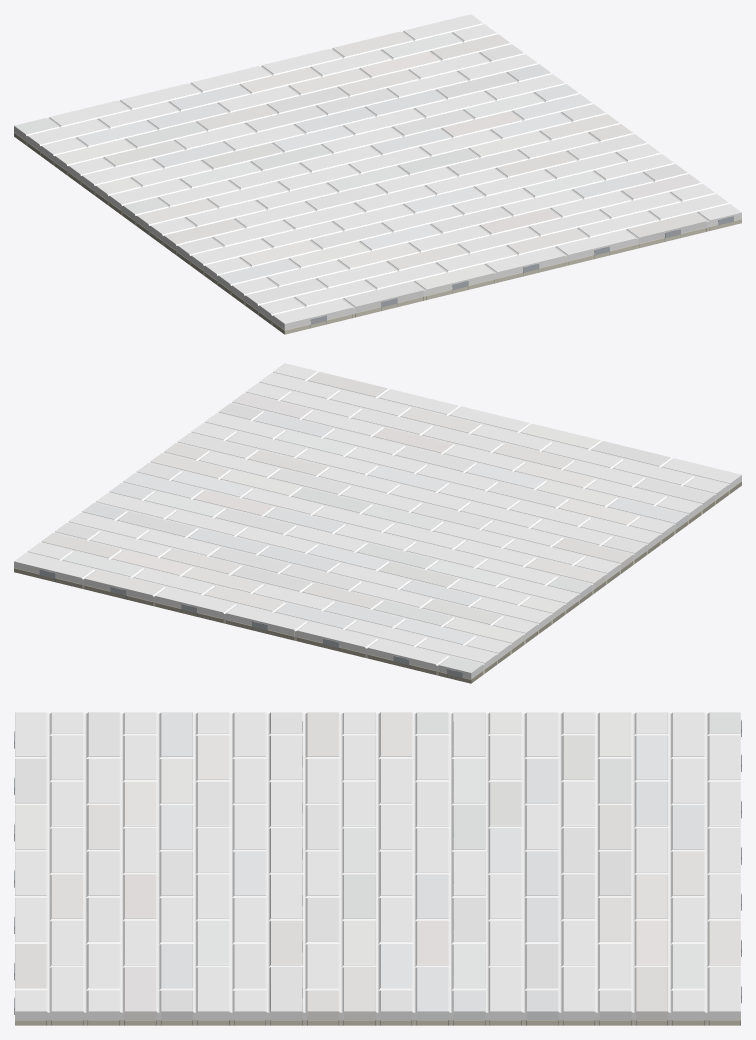
Rendered from board_2.glb.
The picture shows the model from 3 angles, top to bottom: view 1: azimuth 30°, elevation 25°; view 2: azimuth 150°, elevation 25°; view 3: azimuth 270°, elevation 25°; orthographic projection. The views are drawn at different scales.
Parts seen in each view (by area): view 1: T01_T01, MORTAR, T02_T02, backing, CLIP_RC-50; view 2: T01_T01, MORTAR, T02_T02, backing, CLIP_RC-50; view 3: T01_T01, MORTAR, T02_T02, backing.
Boxes of the visible parts, x1,y1,x2,y2 form: T01_T01: (27, 14, 727, 330); MORTAR: (25, 23, 728, 321); T02_T02: (14, 24, 741, 319); backing: (14, 132, 741, 334); CLIP_RC-50: (310, 216, 733, 324); T01_T01: (14, 372, 741, 670); MORTAR: (27, 371, 730, 671); T02_T02: (28, 363, 728, 679); backing: (14, 481, 741, 683); CLIP_RC-50: (39, 569, 462, 677); T01_T01: (15, 712, 740, 1019); MORTAR: (15, 713, 740, 1020); T02_T02: (15, 712, 740, 1019); backing: (15, 721, 740, 1025).
Bounding box in the file's own units: 1.45 × 0.033 × 1.49.
4 materials, 1 textured.
